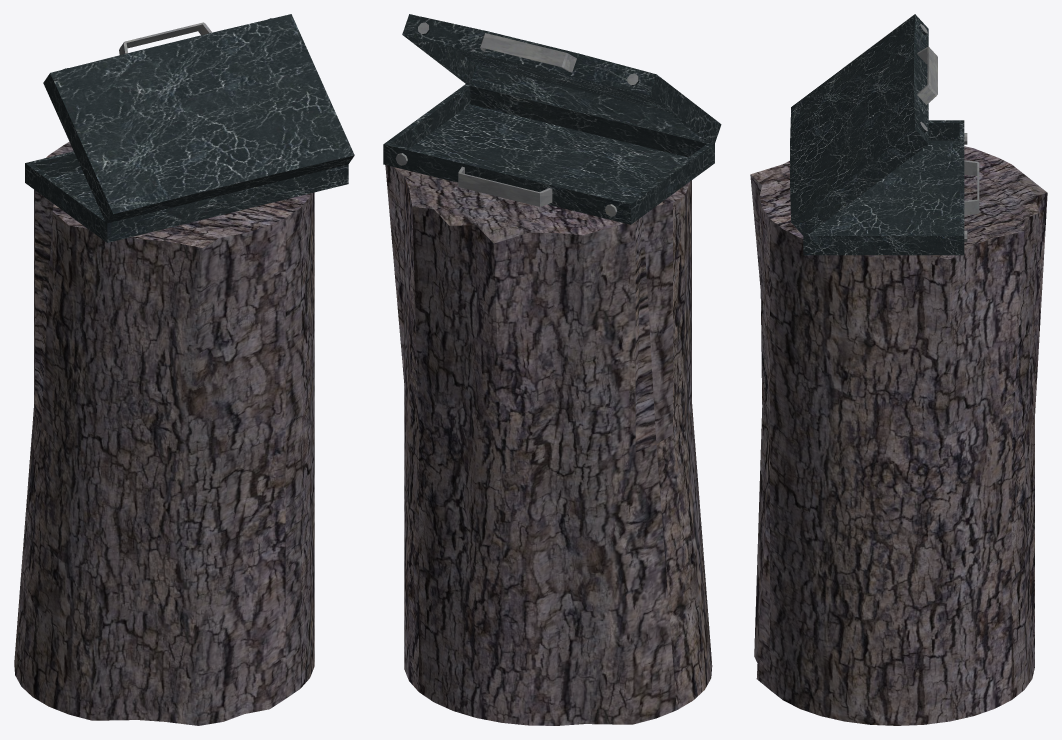
3 views of the same model, side by side, from view 1: azimuth 30°, elevation 25°; view 2: azimuth 150°, elevation 25°; view 3: azimuth 270°, elevation 25° (orthographic). The views are drawn at different scales.
Parts seen in each view (by area): view 1: Tora, MaletaCima, MaletaBaixo; view 2: Tora, MaletaBaixo, MaletaCima; view 3: Tora, MaletaCima, MaletaBaixo.
Part boxes in pixels (x1,y1,x2,y2): Tora: (14,141,314,725); MaletaCima: (43,14,354,223); MaletaBaixo: (25,151,348,242); Tora: (385,165,712,725); MaletaBaixo: (383,84,714,224); MaletaCima: (402,14,721,144); Tora: (750,146,1047,725); MaletaCima: (790,14,937,235); MaletaBaixo: (803,120,979,255).
Size of the model in its own units: 59.91 by 129 by 57.47.
5 materials, 5 textured.
